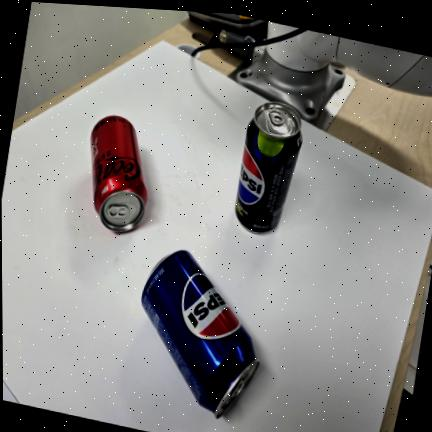can_coke_zero: (90, 116, 147, 232)
can_pepsi: (142, 251, 259, 418)
can_pepsi_zero: (235, 102, 302, 233)
